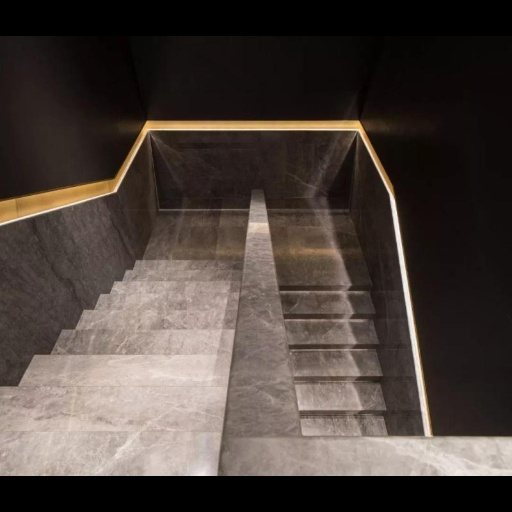Stairs: (0, 212, 249, 475), (268, 209, 386, 436)
